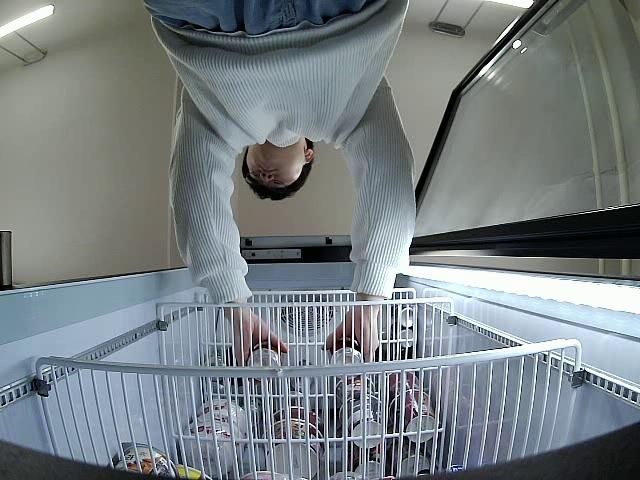00_hand: (323, 305, 379, 359), (233, 317, 288, 369)
11_cocaColaZero: (327, 339, 365, 380), (246, 341, 283, 383)
